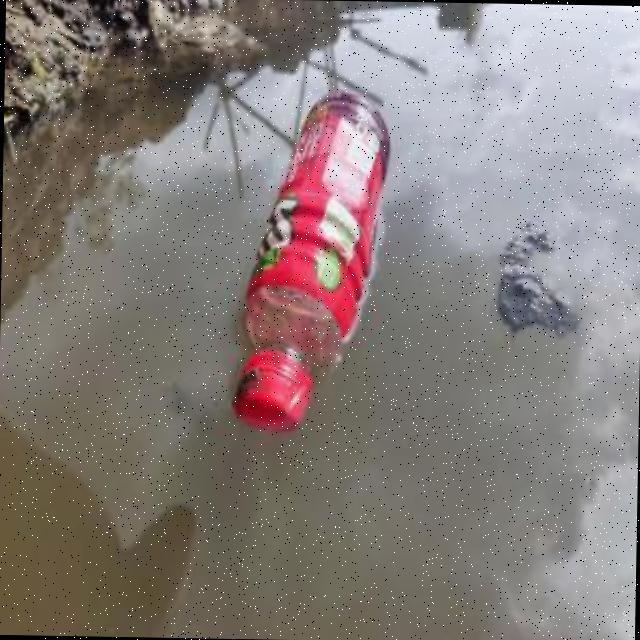Plastic: (226, 79, 400, 445)
